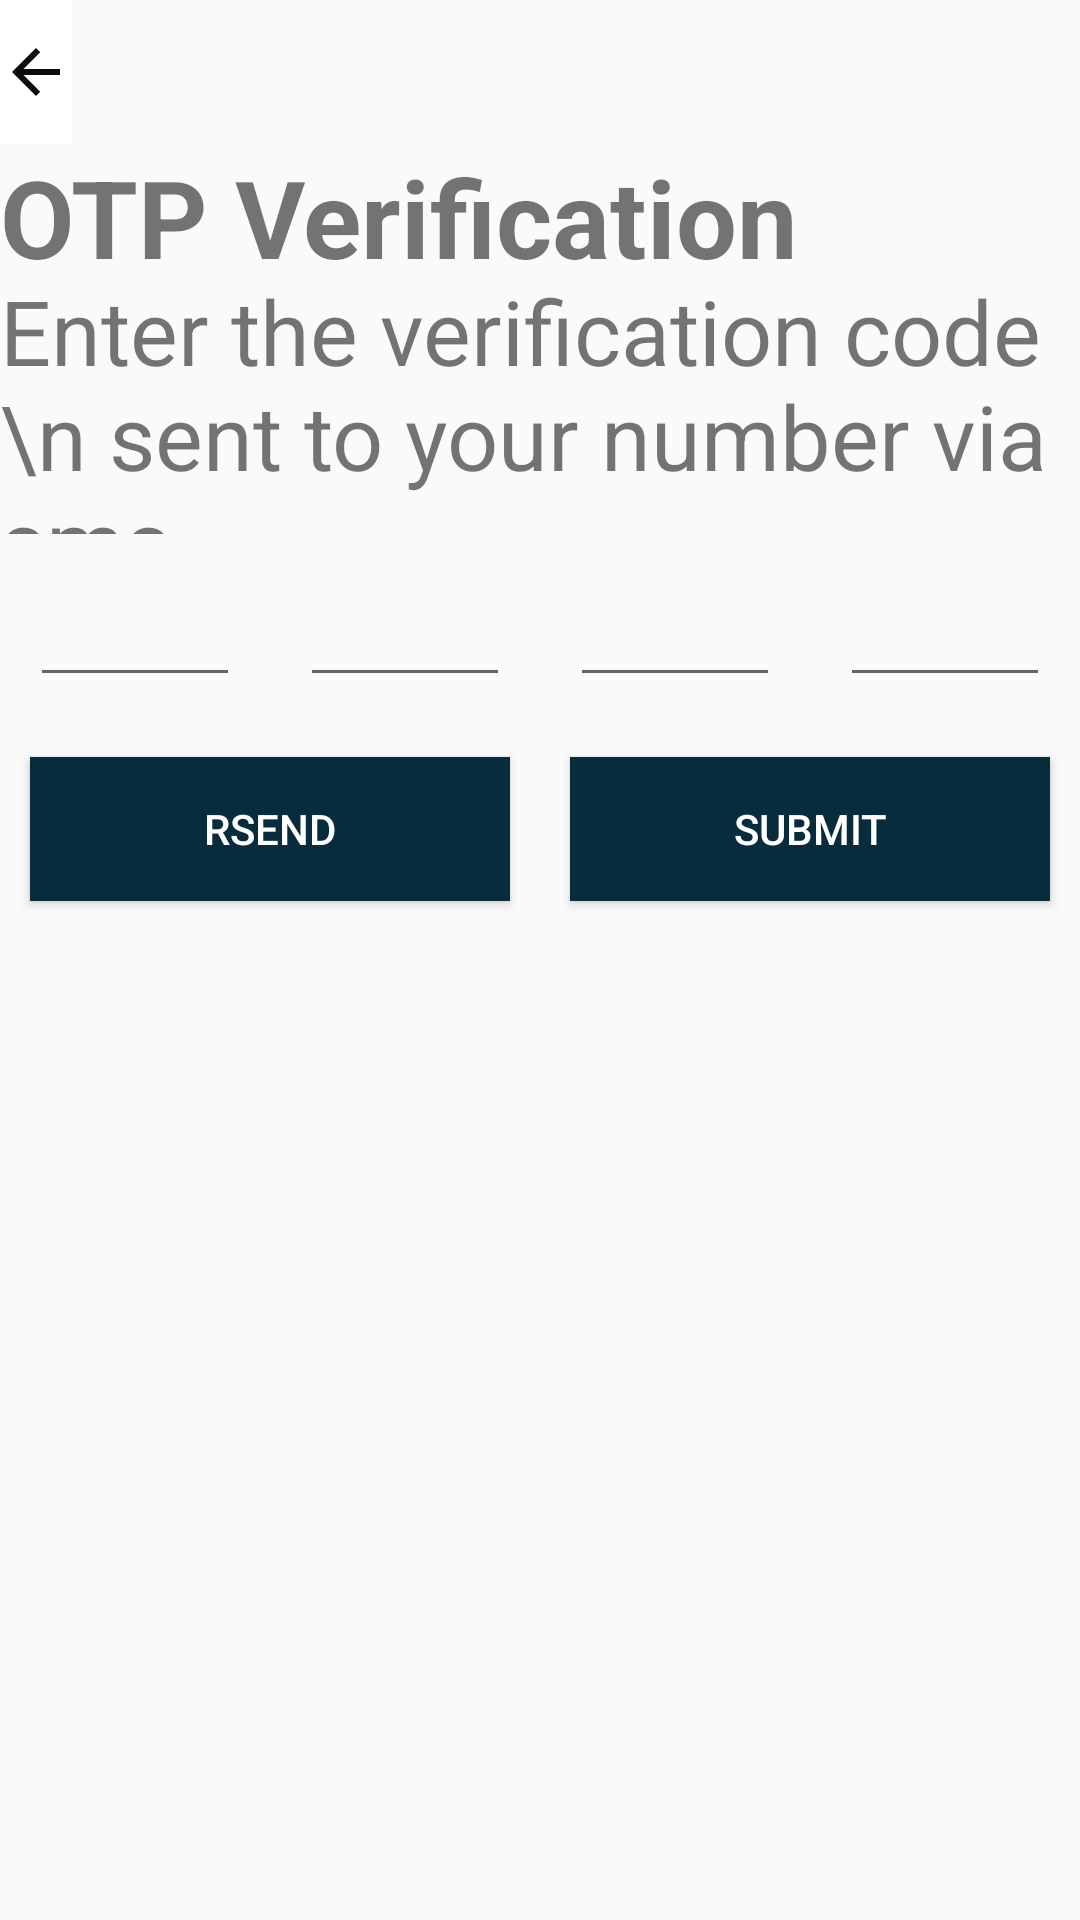

Where to tap for icons on this 1080×1920 app screen, as [x,y]:
arrow back: [36,72]
